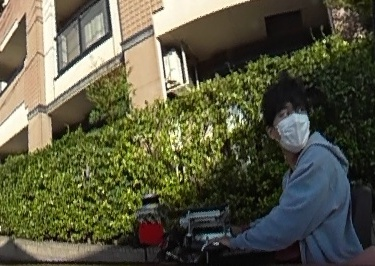person: (233, 84, 360, 266)
